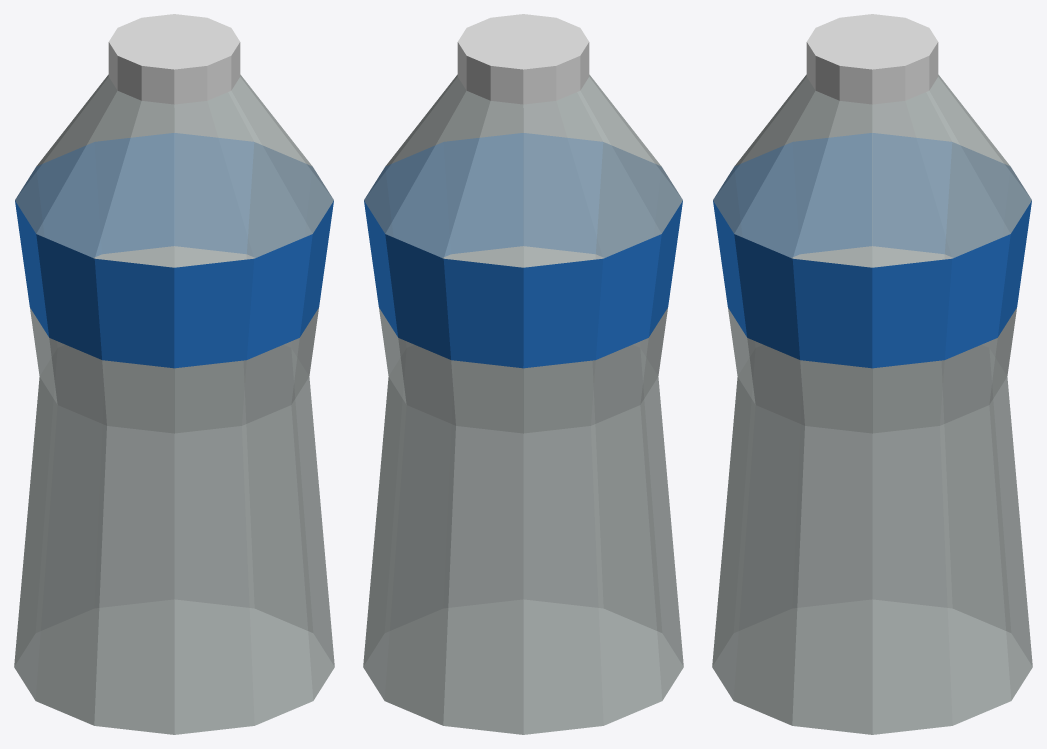
Rendered from Bottle.fbx.
The picture shows the model from 3 angles, left to right: view 1: azimuth 30°, elevation 25°; view 2: azimuth 150°, elevation 25°; view 3: azimuth 270°, elevation 25°; orthographic projection.
Parts seen in each view (by area): view 1: Cylinder.007; view 2: Cylinder.007; view 3: Cylinder.007.
Part boxes in pixels (<box>): Cylinder.007: <box>14,14,334,734</box>; Cylinder.007: <box>363,14,683,734</box>; Cylinder.007: <box>712,14,1032,734</box>.
Bounding box in the file's own units: 20 × 43.03 × 20.
